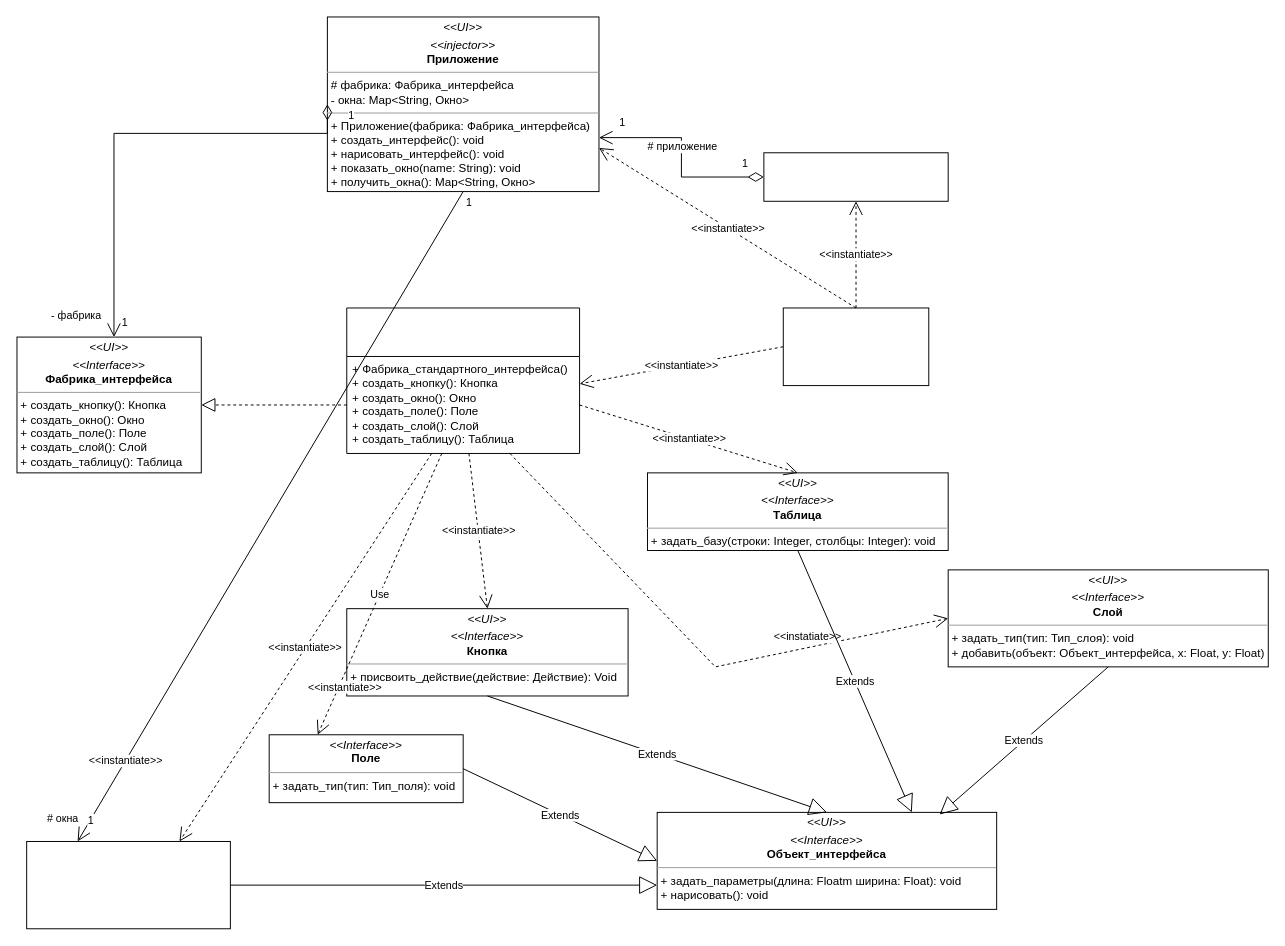
The diagram is 1285 pixels wide and 946 high, and some of its shapes have lost their labels. The shapes that lost their labels are listed below. From the top down, each one's box as (x1, y1, x2, y2) in pixels, then its label:
(763, 152, 948, 201): <<injector>> Главный_контроллер
(782, 307, 929, 386): <<main>> <<injector>> Запуск_программы + Запуск_программы()
(346, 307, 580, 453): <<UI>> <<Injector>> Фабрика_стандартного_интерфейса
(26, 841, 230, 929): <<UI>> <<Interface>> Окно + добавить_слой(слой: Слой): void
